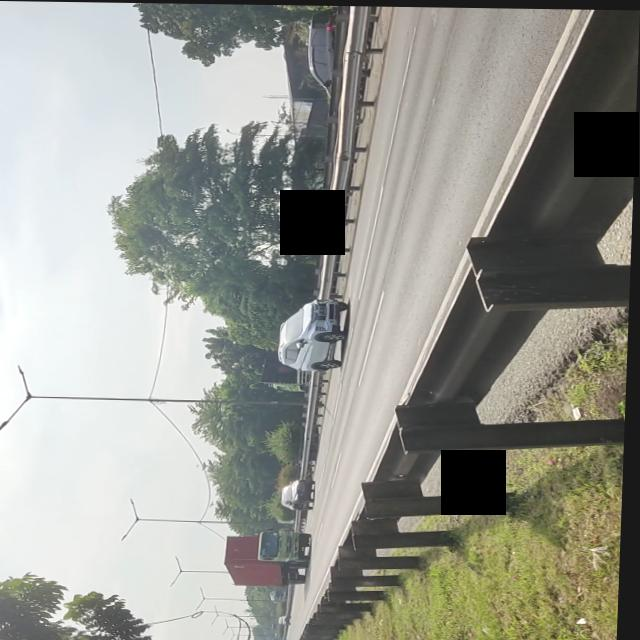Golongan I: (274, 294, 356, 373)
